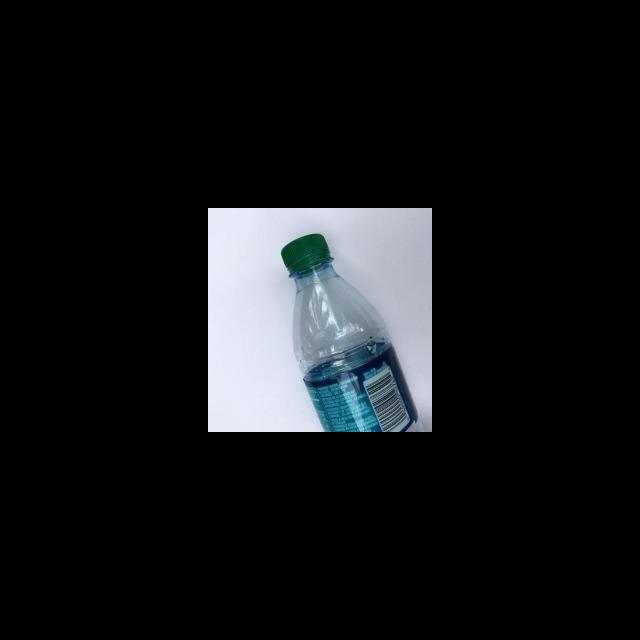plastic: (274, 226, 432, 432)
